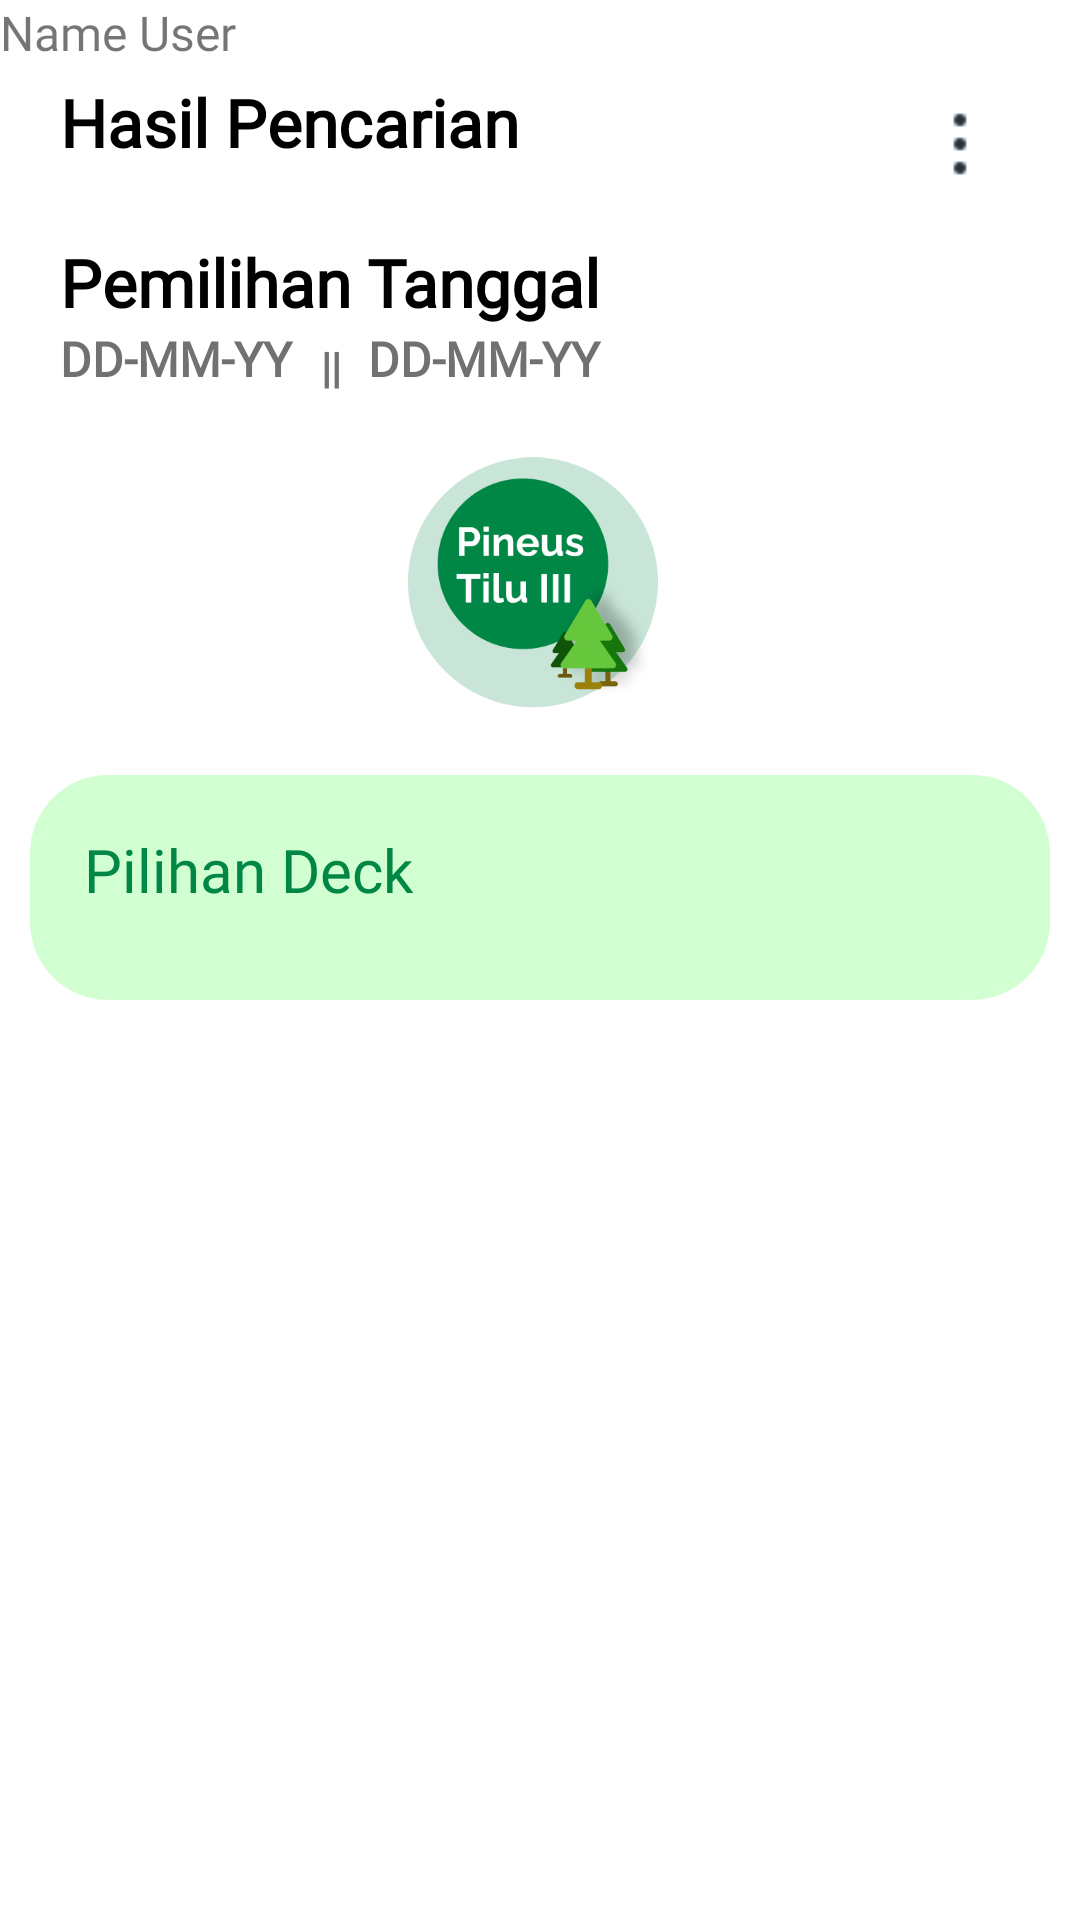

Named icons in this screenshot (1080x1920) and their centers, point (x, y):
menu: point (960, 144)
